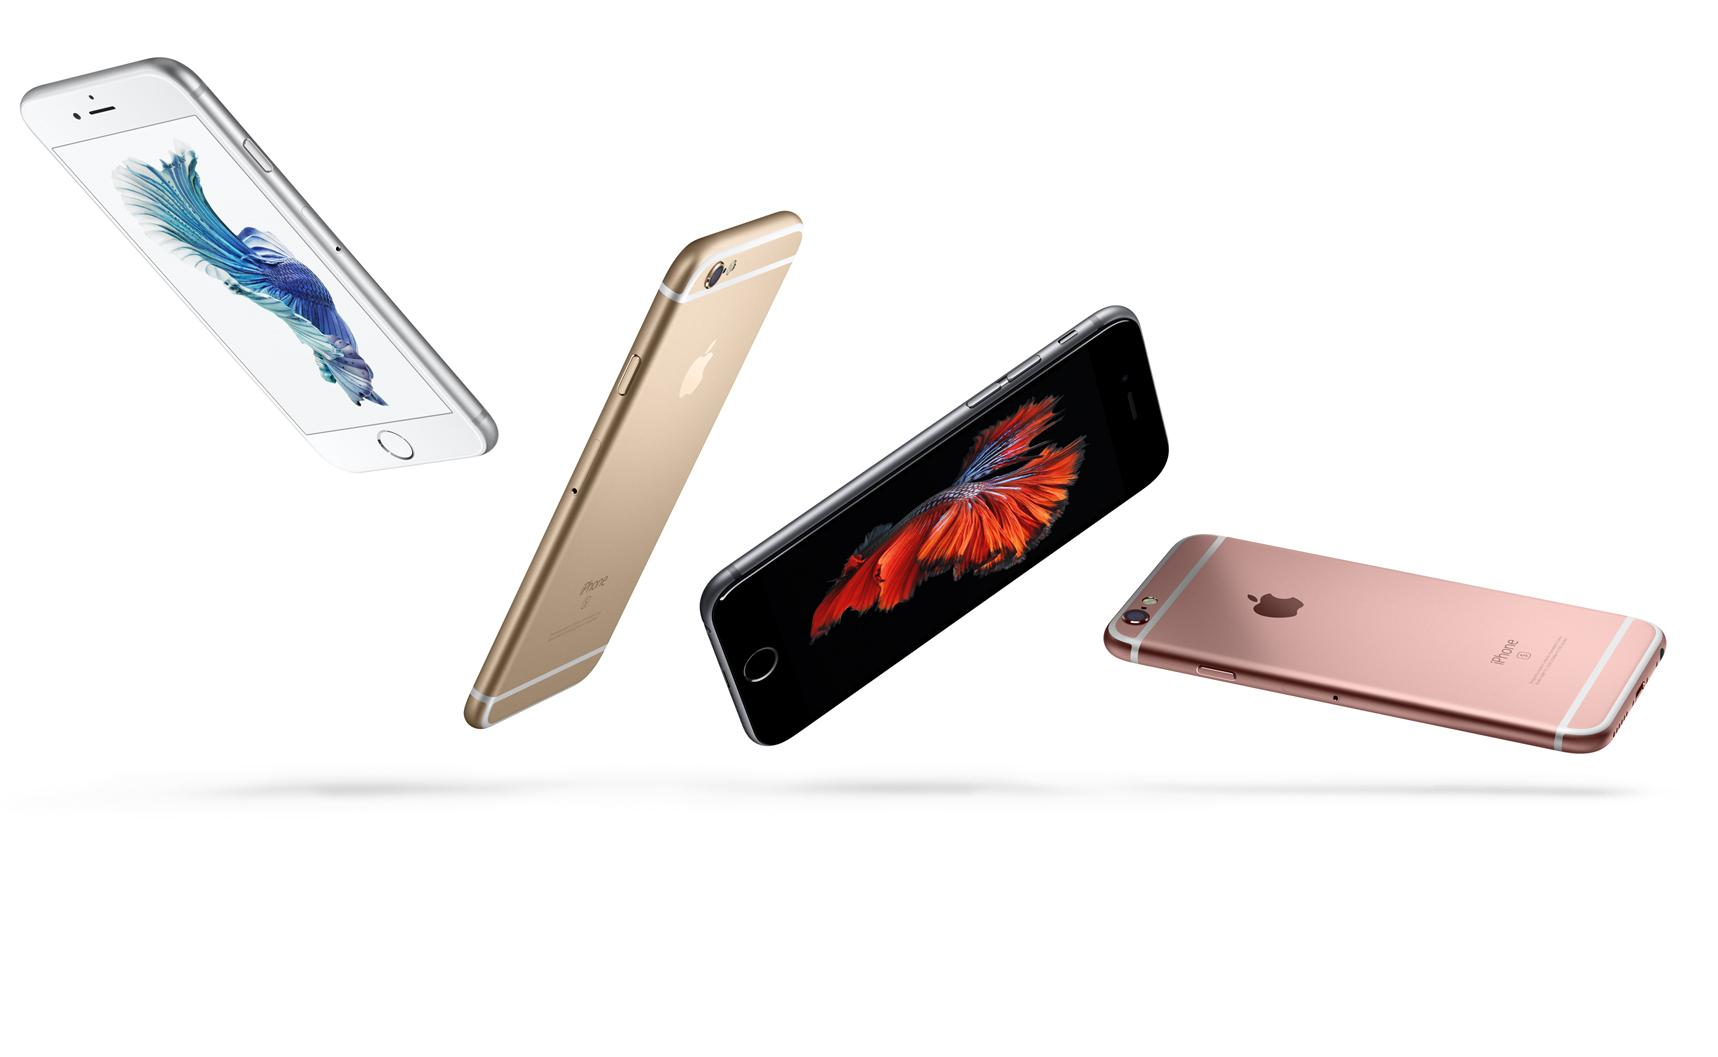smartphone: (699, 302, 1169, 746), (17, 56, 499, 474), (463, 209, 805, 730), (1104, 532, 1666, 754)
